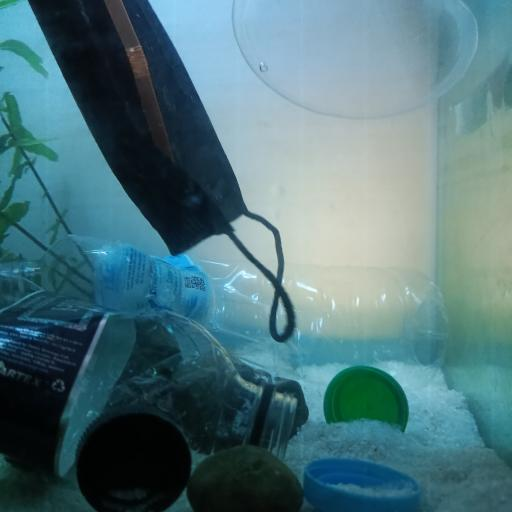bottle_cap: (78, 411, 190, 511), (305, 456, 421, 509), (326, 364, 408, 434)
mask: (23, 0, 302, 342)
plastic_bottle: (1, 232, 452, 388), (0, 270, 296, 477)
plastic_cup: (233, 0, 481, 124)
plastic_straw: (104, 0, 176, 162)
